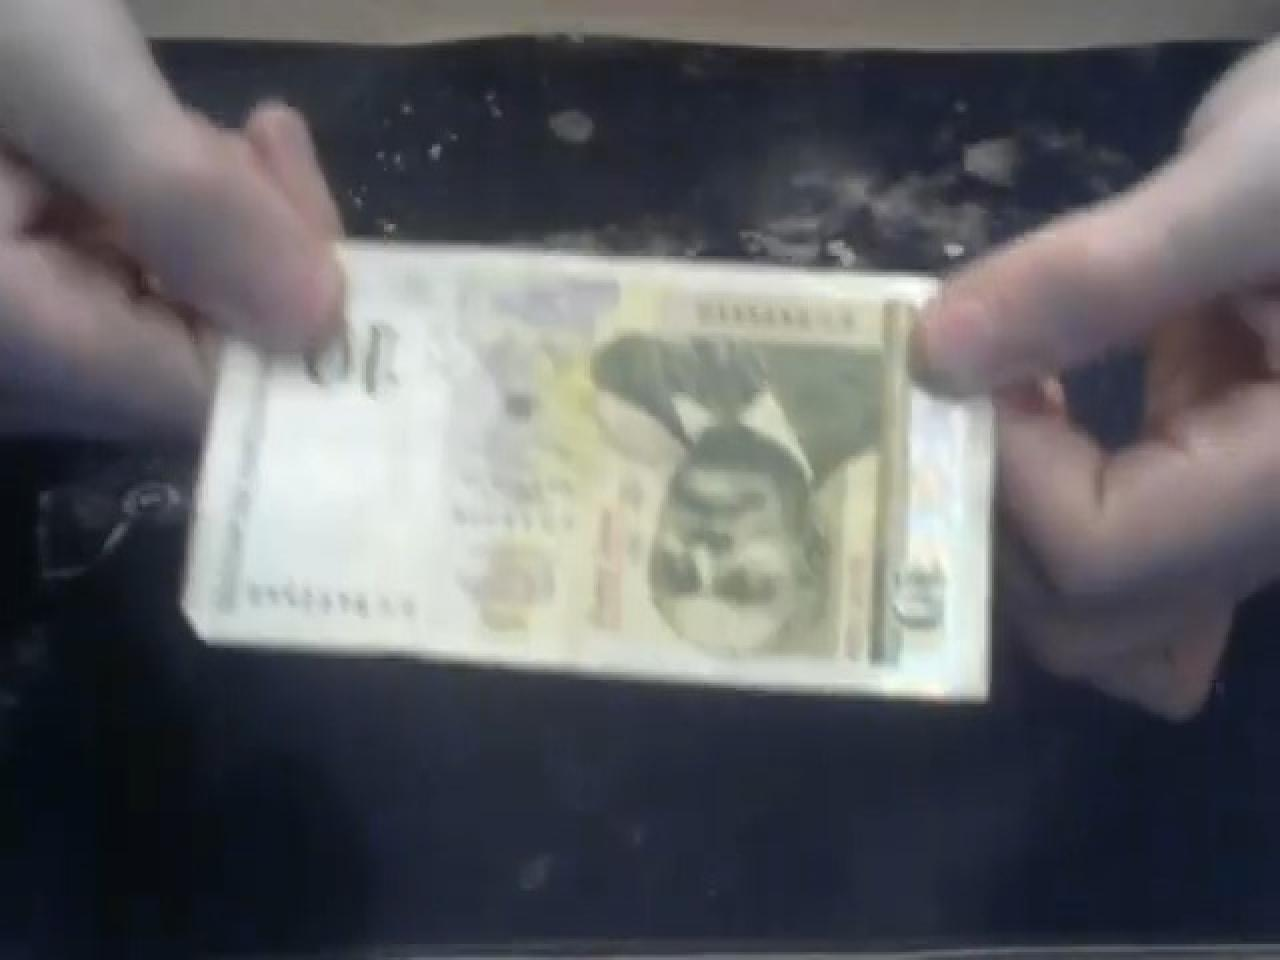10leva: (176, 240, 1044, 717)
